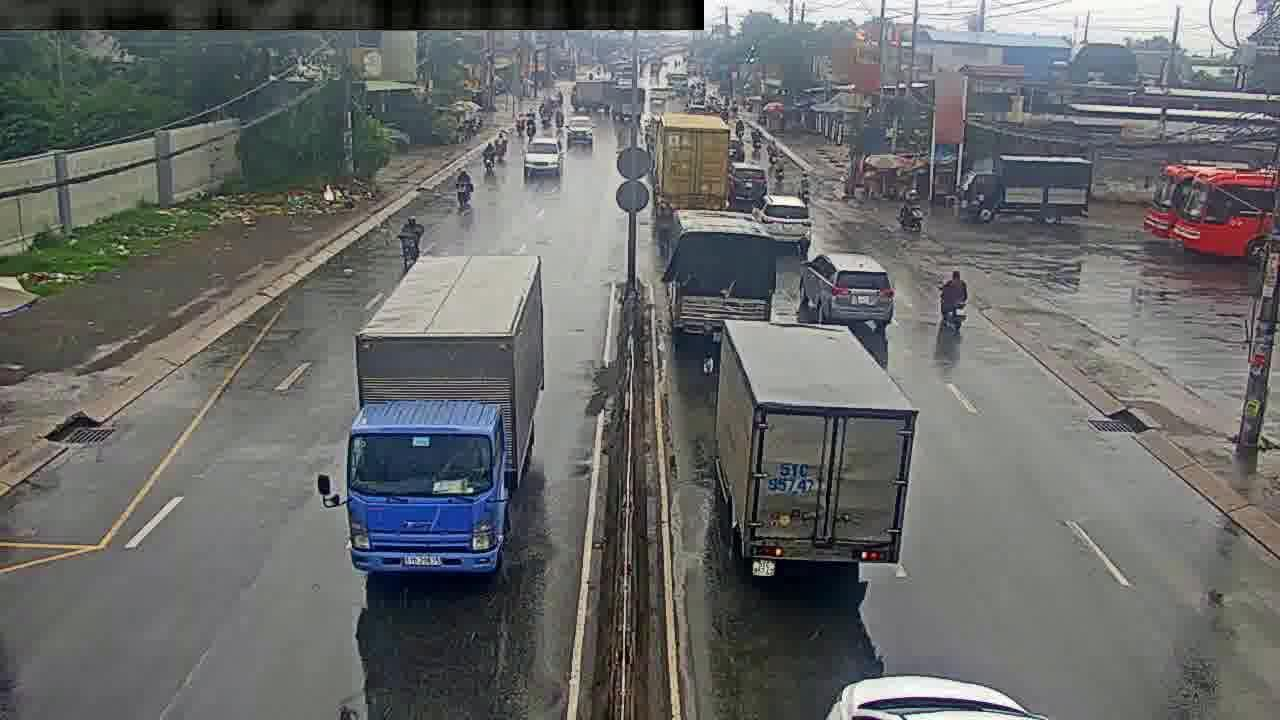8: (339, 252, 546, 579), (712, 322, 912, 576), (671, 213, 776, 333), (662, 119, 731, 212)
container: (800, 256, 894, 324), (758, 193, 812, 255), (727, 160, 768, 202), (525, 132, 562, 173)
motorbike: (939, 260, 968, 330), (399, 208, 424, 263), (901, 191, 922, 238), (479, 141, 495, 181), (456, 170, 472, 207)
